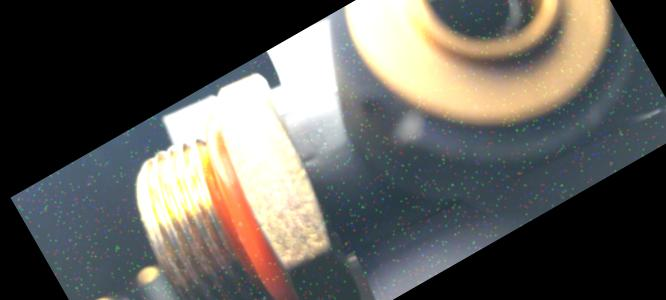bump: (353, 69, 440, 161)
white mark: (293, 147, 325, 174)
